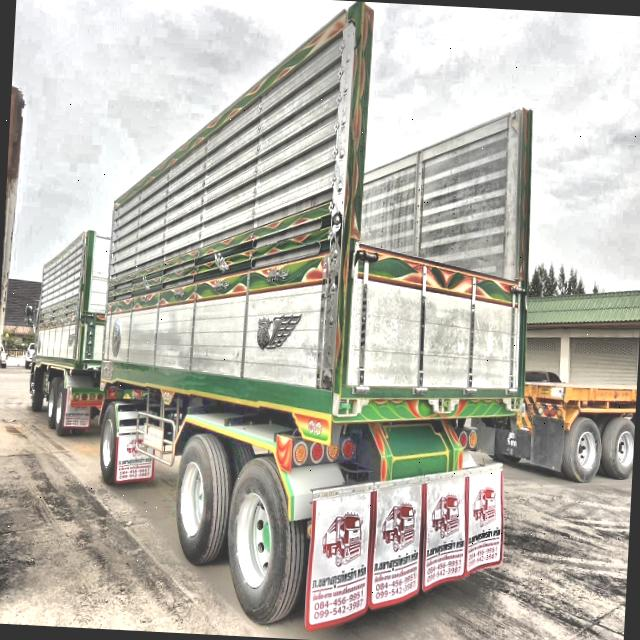trailer: (19, 0, 541, 637)
